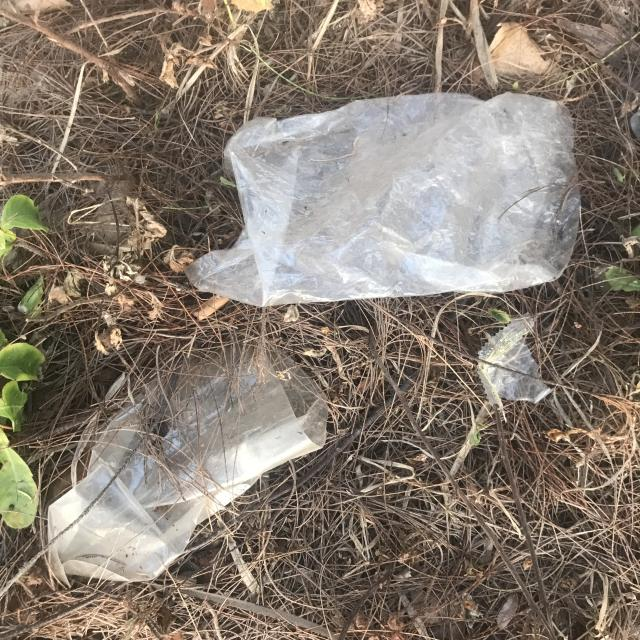Single-layer Plastic: (18, 324, 374, 604), (186, 92, 580, 306), (478, 314, 551, 409)
